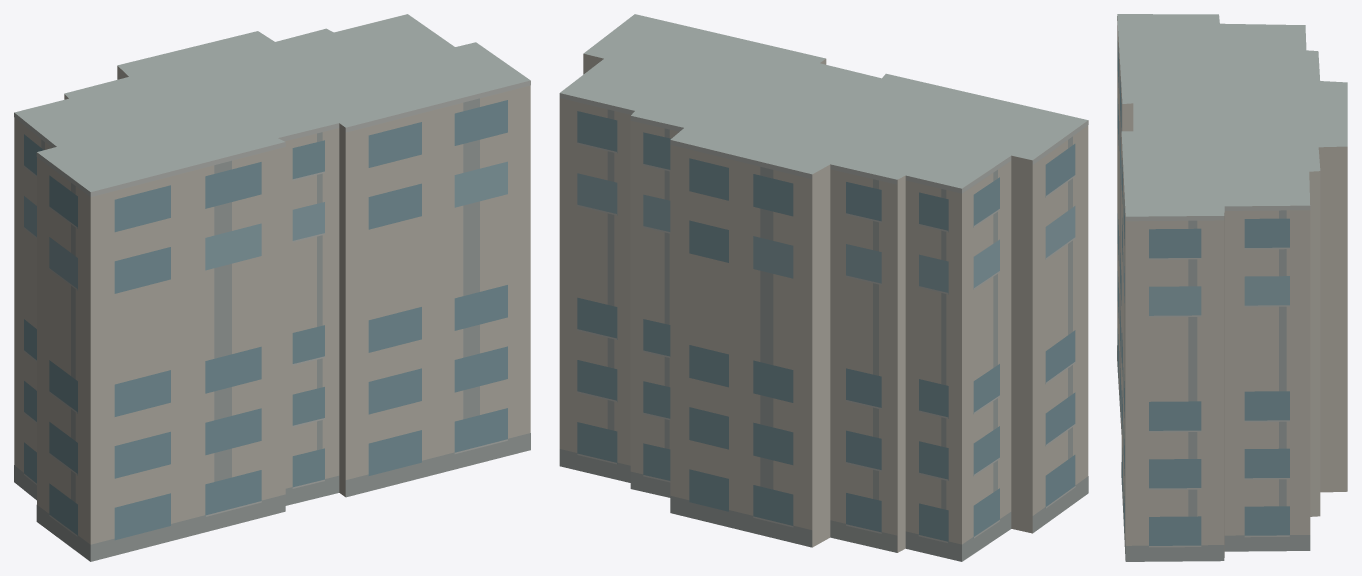
The model's file is survey-upis-32803258.glb.
The picture shows the model from 3 angles, left to right: view 1: azimuth 30°, elevation 25°; view 2: azimuth 150°, elevation 25°; view 3: azimuth 270°, elevation 25°; orthographic projection. The views are drawn at different scales.
Visible parts, largest first — view 1: survey-upis-32803258.tmp; view 2: survey-upis-32803258.tmp; view 3: survey-upis-32803258.tmp.
Part boxes in pixels (x1=…): survey-upis-32803258.tmp: x1=14, y1=14, x2=530, y2=561; survey-upis-32803258.tmp: x1=559, y1=14, x2=1088, y2=561; survey-upis-32803258.tmp: x1=1117, y1=14, x2=1347, y2=561.
Size of the model in its own units: 23.05 by 18.3 by 11.09.
